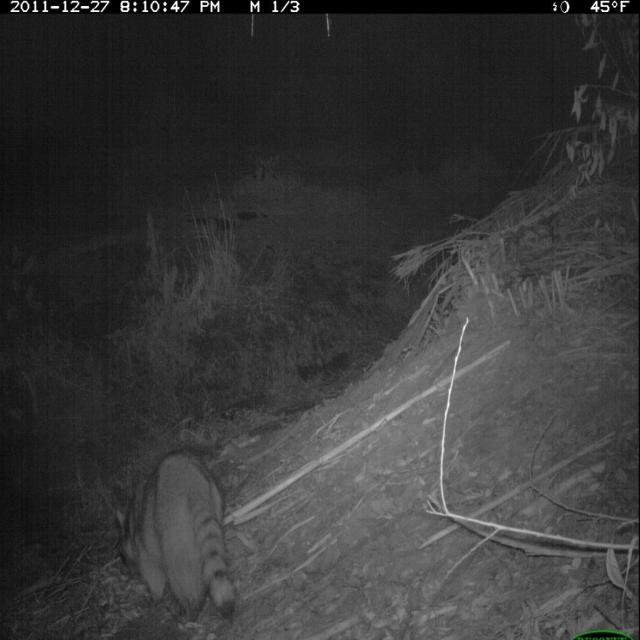raccoon: (108, 449, 261, 624)
